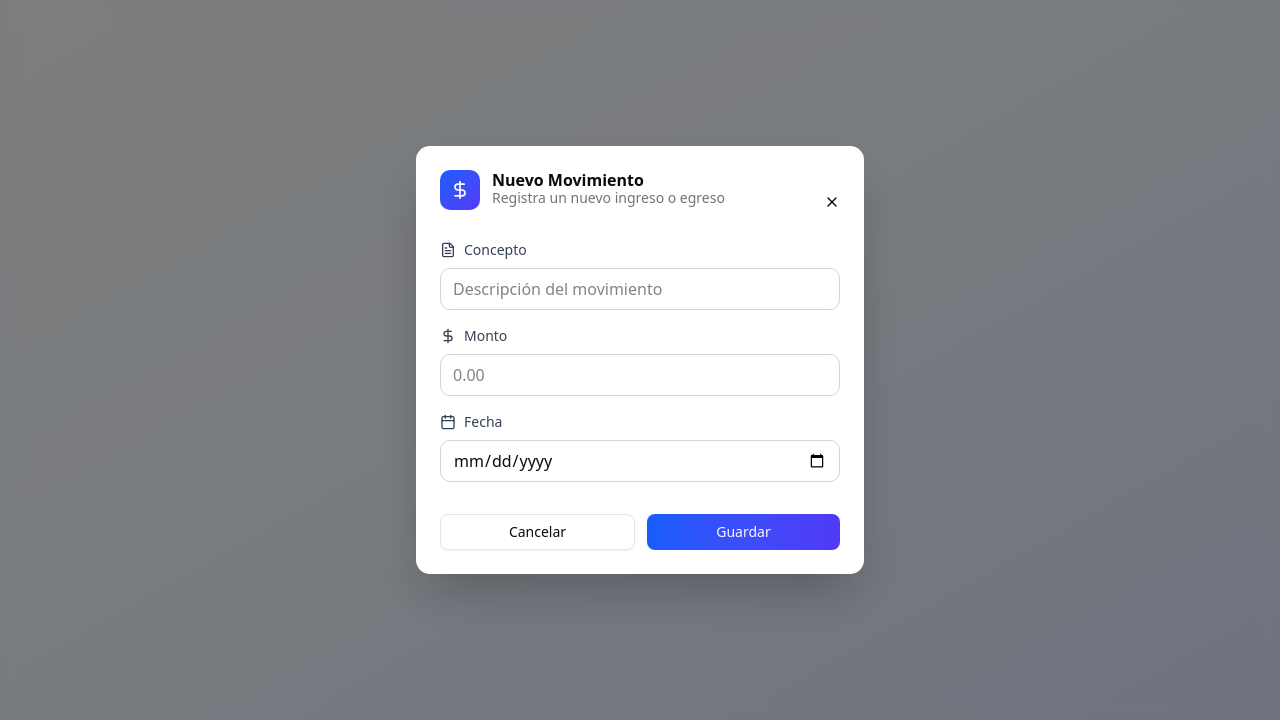
Scenario: MovementForm Component › validates required fields
The image size is (1280, 720).
Click the button "Guardar": (744, 532) [647,514,840,550]
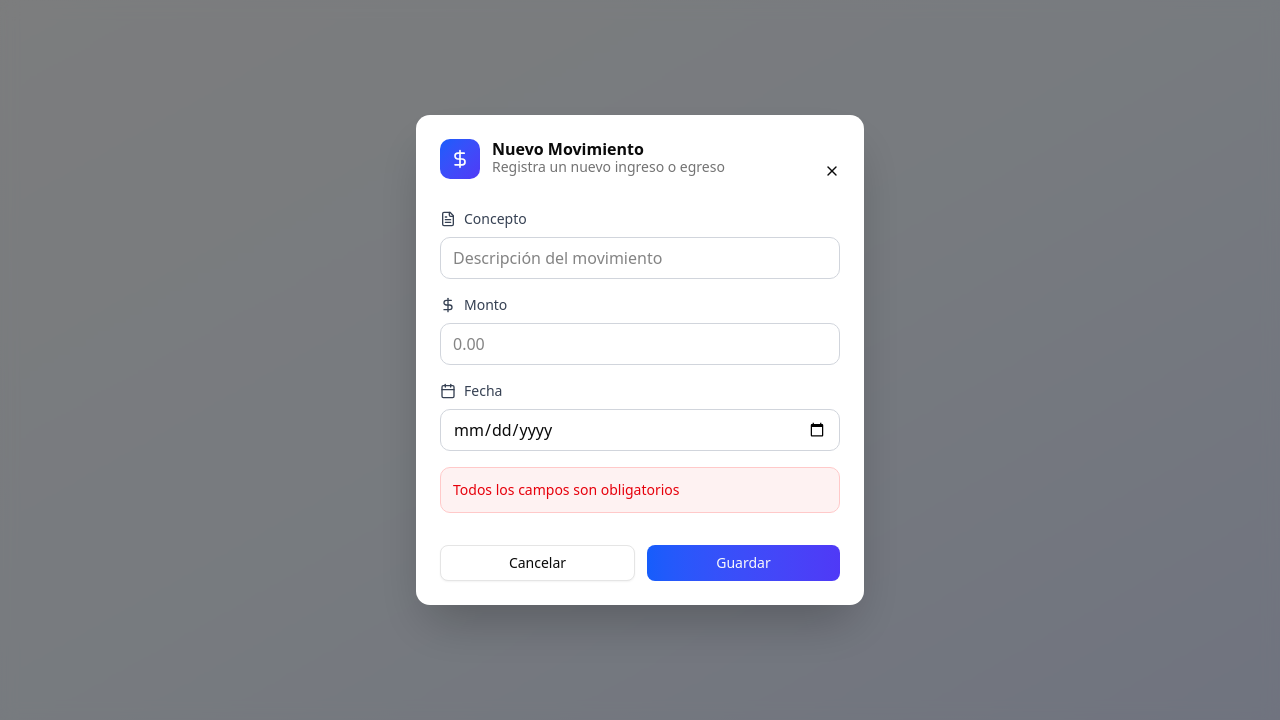
expect the text "Todos los campos son obligatorios" is shown: met, box [453,480,680,499]
